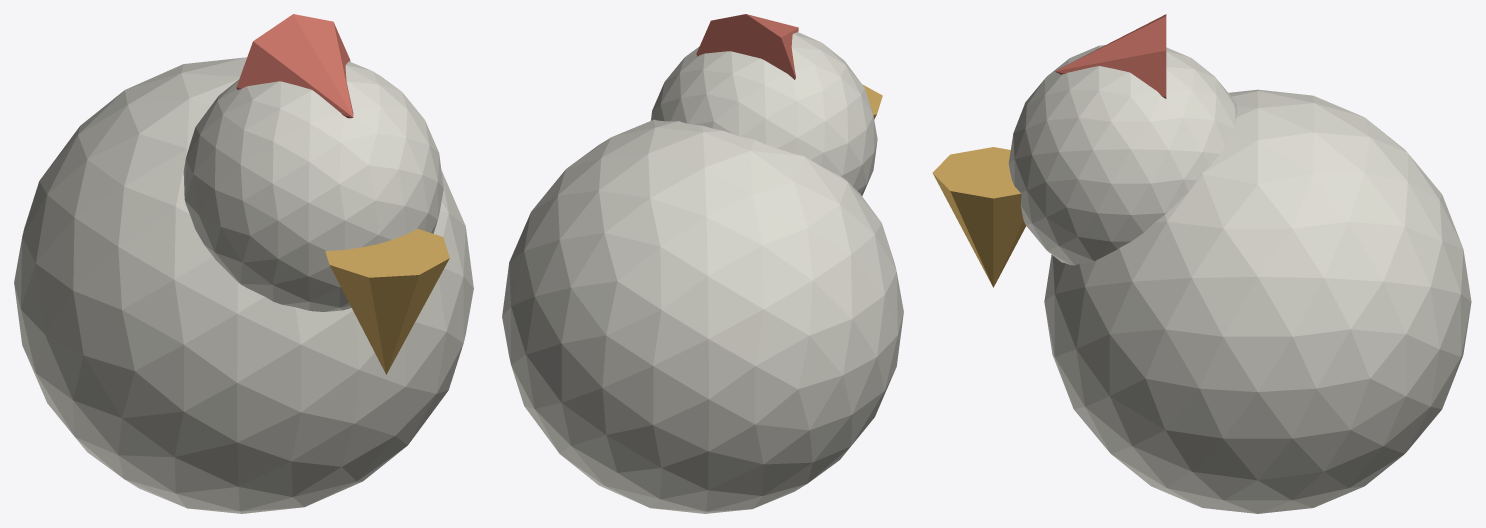
Rendered from chicken.glb.
3 views of the same model, side by side, from view 1: azimuth 30°, elevation 25°; view 2: azimuth 150°, elevation 25°; view 3: azimuth 270°, elevation 25° (orthographic). The views are drawn at different scales.
Visible parts, largest first — view 1: chicken_0, chicken_1, chicken_2, chicken_3; view 2: chicken_0, chicken_1, chicken_3; view 3: chicken_0, chicken_1, chicken_2, chicken_3.
Boxes of the visible parts, x1=… form: chicken_0: x1=14, y1=57, x2=473, y2=513; chicken_1: x1=183, y1=61, x2=443, y2=311; chicken_2: x1=325, y1=228, x2=449, y2=374; chicken_3: x1=236, y1=14, x2=353, y2=118; chicken_0: x1=502, y1=119, x2=903, y2=513; chicken_1: x1=650, y1=32, x2=877, y2=195; chicken_3: x1=696, y1=14, x2=798, y2=79; chicken_0: x1=1044, y1=89, x2=1471, y2=513; chicken_1: x1=1008, y1=45, x2=1237, y2=265; chicken_2: x1=932, y1=147, x2=1025, y2=287; chicken_3: x1=1055, y1=14, x2=1166, y2=98.
Size of the model in its own units: 0.84 by 1.04 by 1.06.
